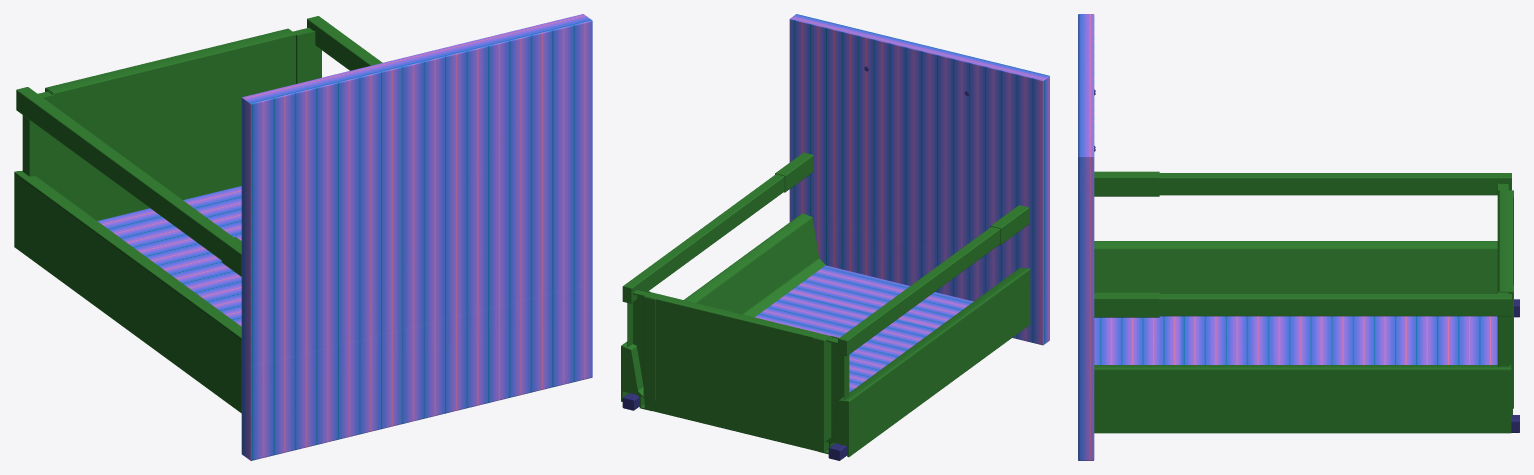
File: SM_Kitchen_10_Drawer_03.fbx
The picture shows the model from 3 angles, left to right: view 1: azimuth 30°, elevation 25°; view 2: azimuth 150°, elevation 25°; view 3: azimuth 270°, elevation 25°; orthographic projection. The views are drawn at different scales.
Visible parts, largest first — view 1: SM_Kitchen_10_Drawer_03; view 2: SM_Kitchen_10_Drawer_03; view 3: SM_Kitchen_10_Drawer_03.
Part boxes in pixels (bbox=[...]): SM_Kitchen_10_Drawer_03: bbox=[14, 14, 592, 460]; SM_Kitchen_10_Drawer_03: bbox=[621, 14, 1049, 460]; SM_Kitchen_10_Drawer_03: bbox=[1078, 14, 1519, 460].
Size of the model in its own units: 39.7 by 39.6 by 51.99.
Materials: 4 (2 with a texture image).
